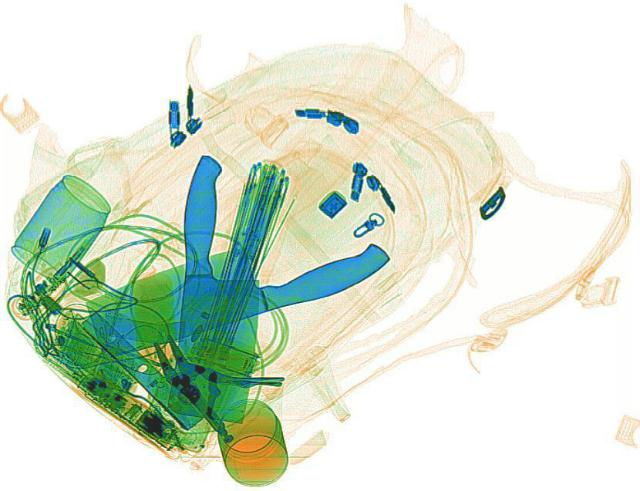Knife: (68, 207, 400, 360), (165, 152, 269, 421)
